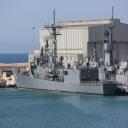Fragata: (12, 10, 121, 97)
